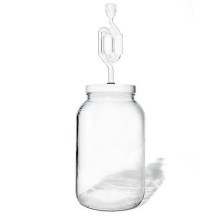bottle: (67, 79, 152, 216)
